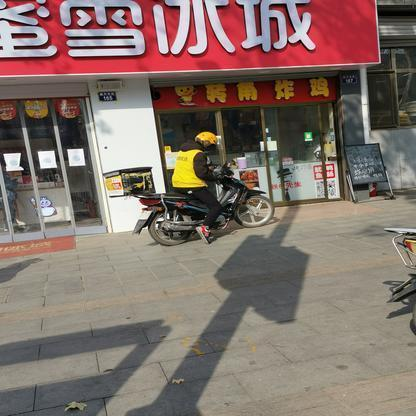target: (134, 131, 277, 247)
